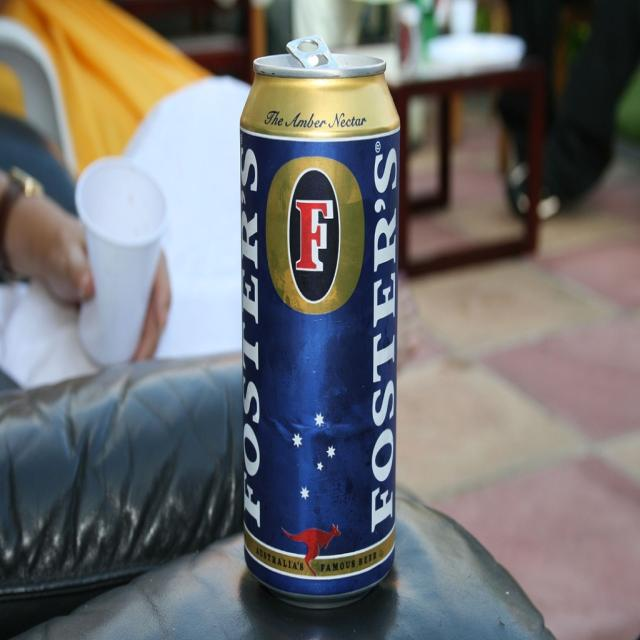fosters: (265, 154, 368, 320)
